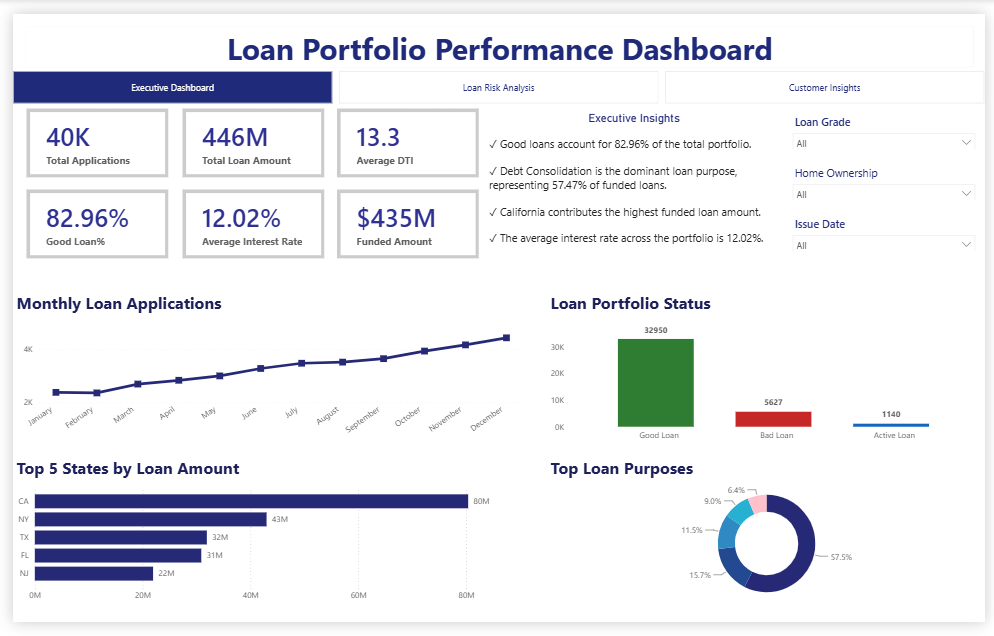

This screenshot's page, from the dashboard's own definition file:
{"tool":"powerbi","page":{"name":"Executive Dashboard","canvas":[1440,900],"ordinal":0},"visuals":[{"type":"cardVisual","fields":{"Data":["loan.Total Loan Applications"]},"box":[20,140,210,102],"z":0},{"type":"cardVisual","fields":{"Data":["loan.Total Funded Amount"]},"box":[480,260,210,102],"z":1000},{"type":"cardVisual","fields":{"Data":["loan.Total Loan Amount"]},"box":[250,140,210,102],"z":2000},{"type":"cardVisual","fields":{"Data":["loan.Average Interest Rate"]},"box":[250,260,210,102],"z":3000},{"type":"cardVisual","fields":{"Data":["loan.Average DTI"]},"box":[480,140,210,102],"z":4000},{"type":"cardVisual","fields":{"Data":["loan.Good Loan %"]},"box":[20,260,210,102],"z":5000},{"type":"lineChart","title":"Monthly Loan Applications","fields":{"Category":["loan.issue_d.Variation.Date Hierarchy.Month"],"Y":["loan.Total Loan Applications"]},"box":[0,410,760,230],"z":6000},{"type":"clusteredColumnChart","title":"Loan Portfolio Status","fields":{"Category":["loan.Loan Category"],"Y":["CountNonNull(loan.id)"]},"box":[790,410,650,230],"z":7000},{"type":"donutChart","title":"Top Loan Purposes","fields":{"Category":["loan.purpose"],"Y":["Sum(loan.id)"]},"box":[790,655,650,225],"z":8000},{"type":"slicer","title":"📅 Issue Date","fields":{"Values":["loan.issue_d"]},"box":[1140,290,300,60],"z":9000},{"type":"slicer","title":"🎓 Loan Grade","fields":{"Values":["loan.grade"]},"box":[1140,140,300,60],"z":10000},{"type":"slicer","title":"🏠 Home Ownership","fields":{"Values":["loan.home_ownership"]},"box":[1140,215,300,60],"z":11000},{"type":"clusteredBarChart","title":"Top 5 States by Loan Amount","fields":{"Category":["loan.addr_state"],"Y":["Sum(loan.loan_amnt)"]},"box":[0,656,768,224],"z":12000},{"type":"cardVisual","fields":{"Data":["Measures (2).Dynamic Title"]},"box":[0,0,1440,96],"z":13000},{"type":"pageNavigator","box":[0,85,1440,48],"z":14000},{"type":"textbox","title":"Executive Insights","box":[700,144,440,216],"z":15000}]}

Visuals, with their boxes in screenshot pixels (x1, y1, x2, y2), scaled from the page's 1440x900 canvas onto the 994x636 screenshot:
cardVisual - loan.Total Loan Applications: region(14, 99, 159, 171)
cardVisual - loan.Total Funded Amount: region(331, 184, 476, 256)
cardVisual - loan.Total Loan Amount: region(173, 99, 318, 171)
cardVisual - loan.Average Interest Rate: region(173, 184, 318, 256)
cardVisual - loan.Average DTI: region(331, 99, 476, 171)
cardVisual - loan.Good Loan %: region(14, 184, 159, 256)
"Monthly Loan Applications" lineChart: region(0, 290, 525, 452)
"Loan Portfolio Status" clusteredColumnChart: region(545, 290, 993, 452)
"Top Loan Purposes" donutChart: region(545, 463, 993, 622)
"📅 Issue Date" slicer: region(787, 205, 993, 247)
"🎓 Loan Grade" slicer: region(787, 99, 993, 141)
"🏠 Home Ownership" slicer: region(787, 152, 993, 194)
"Top 5 States by Loan Amount" clusteredBarChart: region(0, 464, 530, 622)
cardVisual - Measures (2).Dynamic Title: region(0, 0, 993, 68)
pageNavigator: region(0, 60, 993, 94)
"Executive Insights" textbox: region(483, 102, 787, 254)
